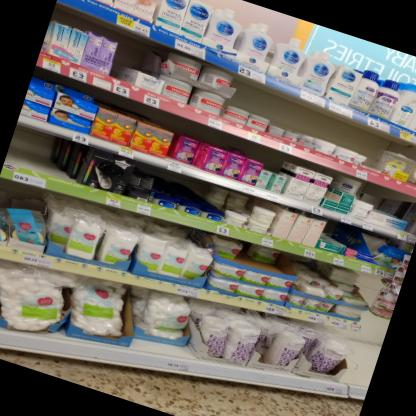empty_space: (345, 314, 390, 387), (4, 124, 51, 174), (41, 135, 87, 183), (361, 130, 397, 174)
